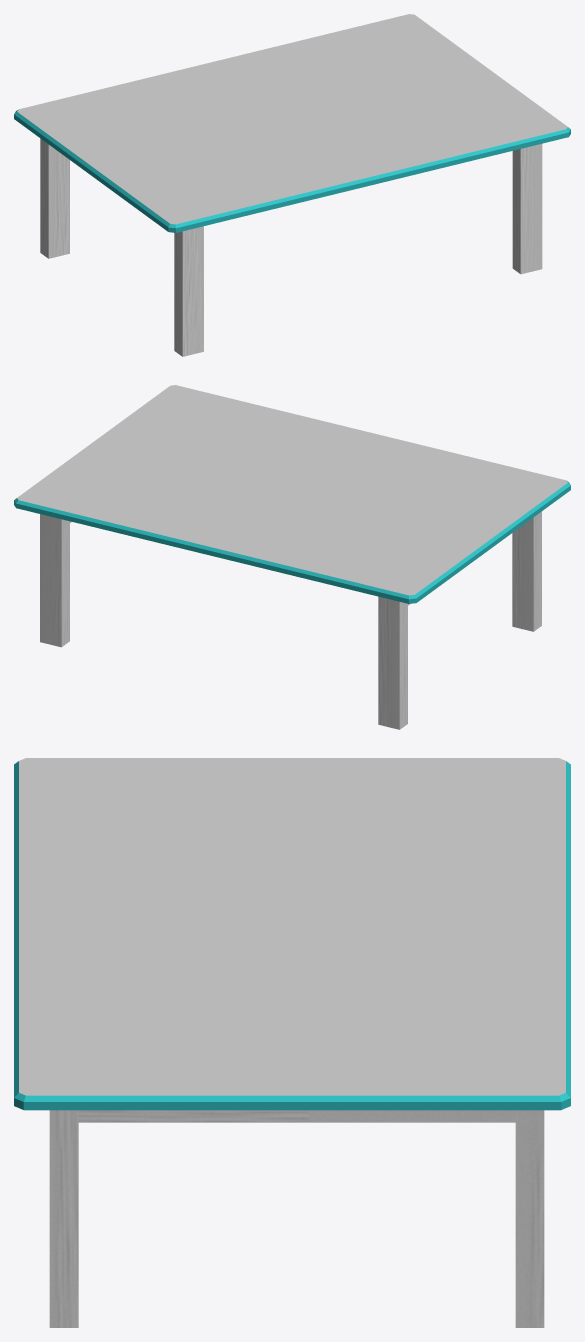
File: Dining_Room_Table_B.FBX
3 renders of one model, top to bottom at view 1: azimuth 30°, elevation 25°; view 2: azimuth 150°, elevation 25°; view 3: azimuth 270°, elevation 25°, orthographic. The views are drawn at different scales.
Parts seen in each view (by area): view 1: Dining_Room_Table; view 2: Dining_Room_Table; view 3: Dining_Room_Table.
Part boxes in pixels (x1,y1,x2,y2): Dining_Room_Table: (14, 14, 570, 356); Dining_Room_Table: (14, 385, 570, 729); Dining_Room_Table: (14, 758, 570, 1327).
Bounding box in the file's own units: 450 × 153 × 310.
